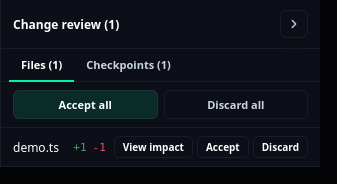
Scenario: ChangeReviewPanel › switches to checkpoint timeline tab
Click the tab with test id "change-review-tab-timeline" at (128, 66), box [74,49,183,82]
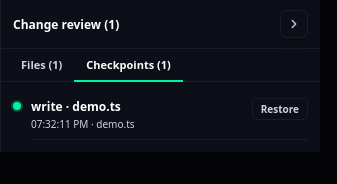
Expected: the element with test id "checkpoint-timeline" is shown, [1,82,320,152]
Expected: the text "write · demo.ts" is shown, [31,98,121,115]
Expected: the button with test id "checkpoint-restore" is shown, [252,98,308,120]
